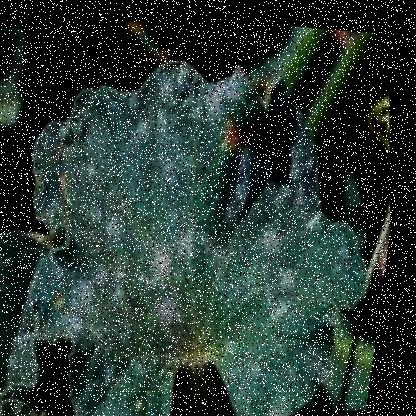PowderyMildew: (55, 111, 324, 364)
